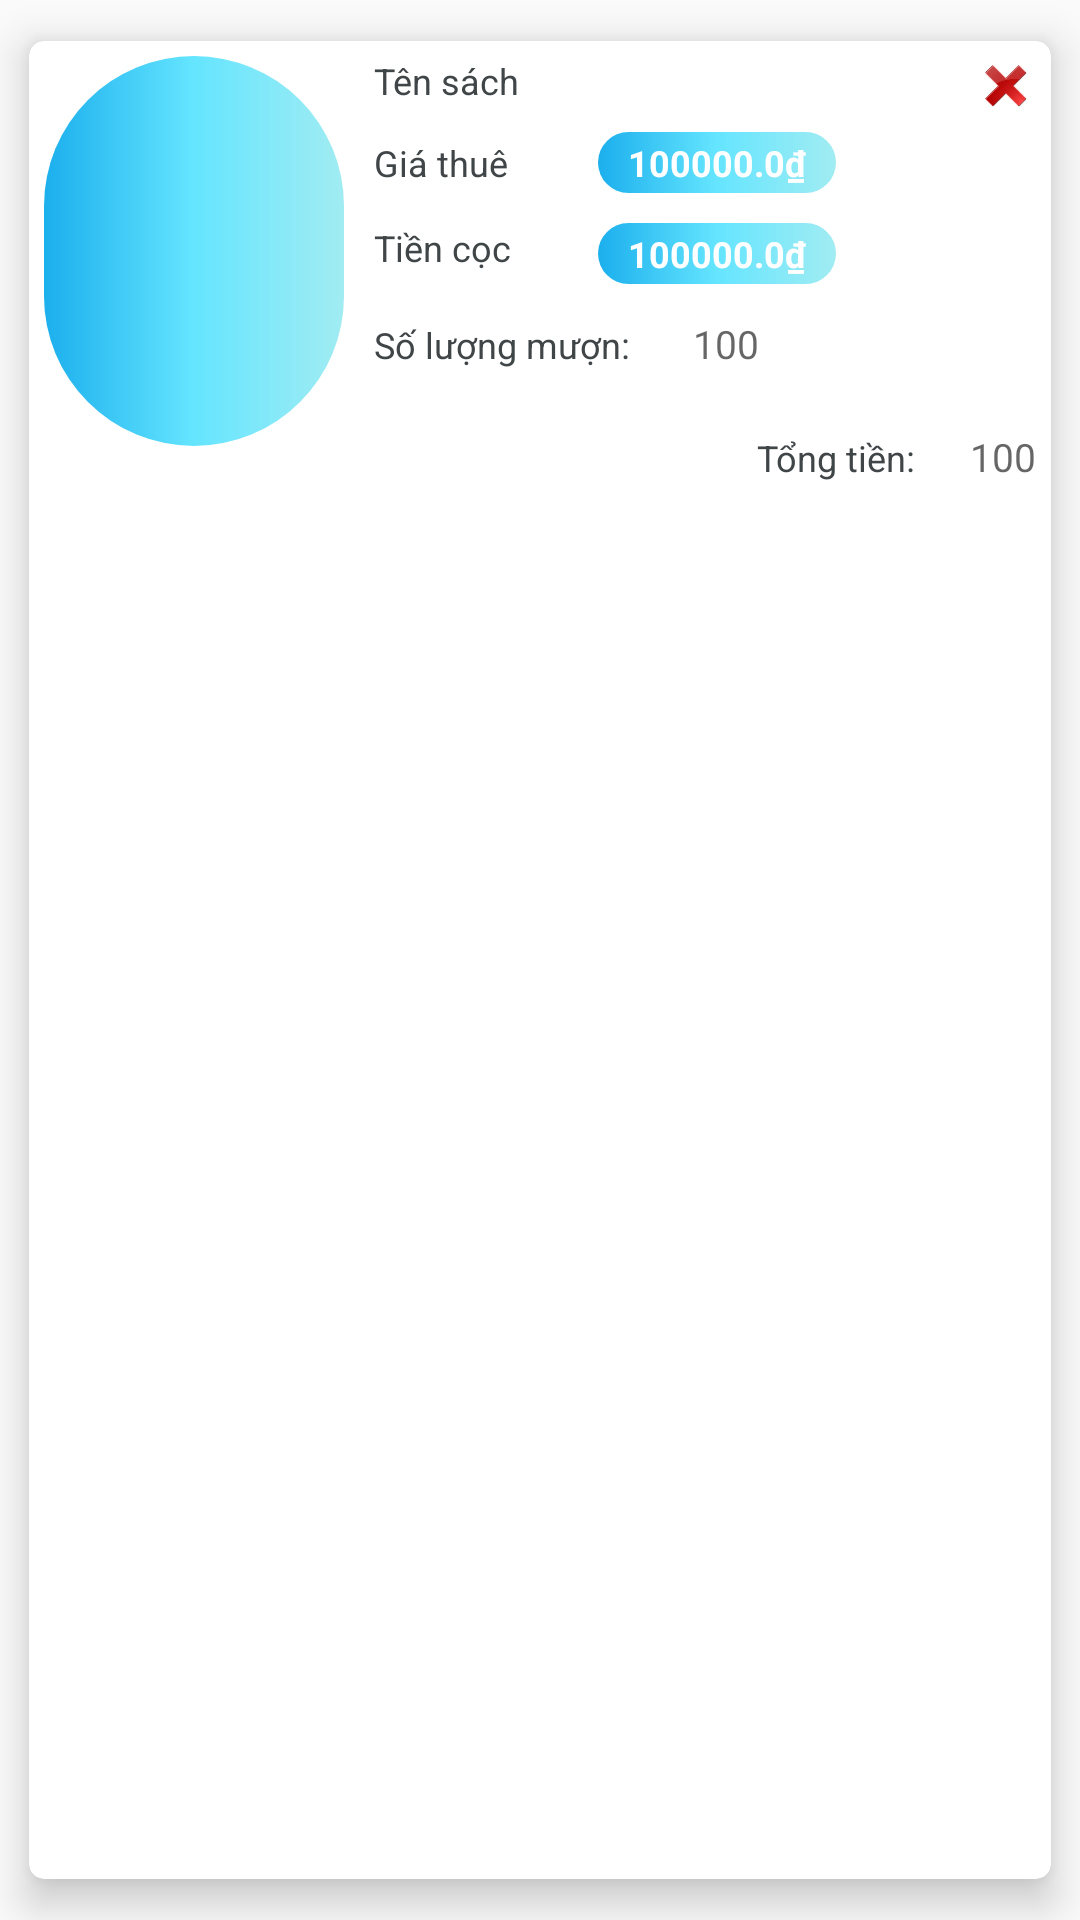

Named icons in this screenshot (1080x1920) and their centers, point (x, y):
xoa: point (1005, 85)
